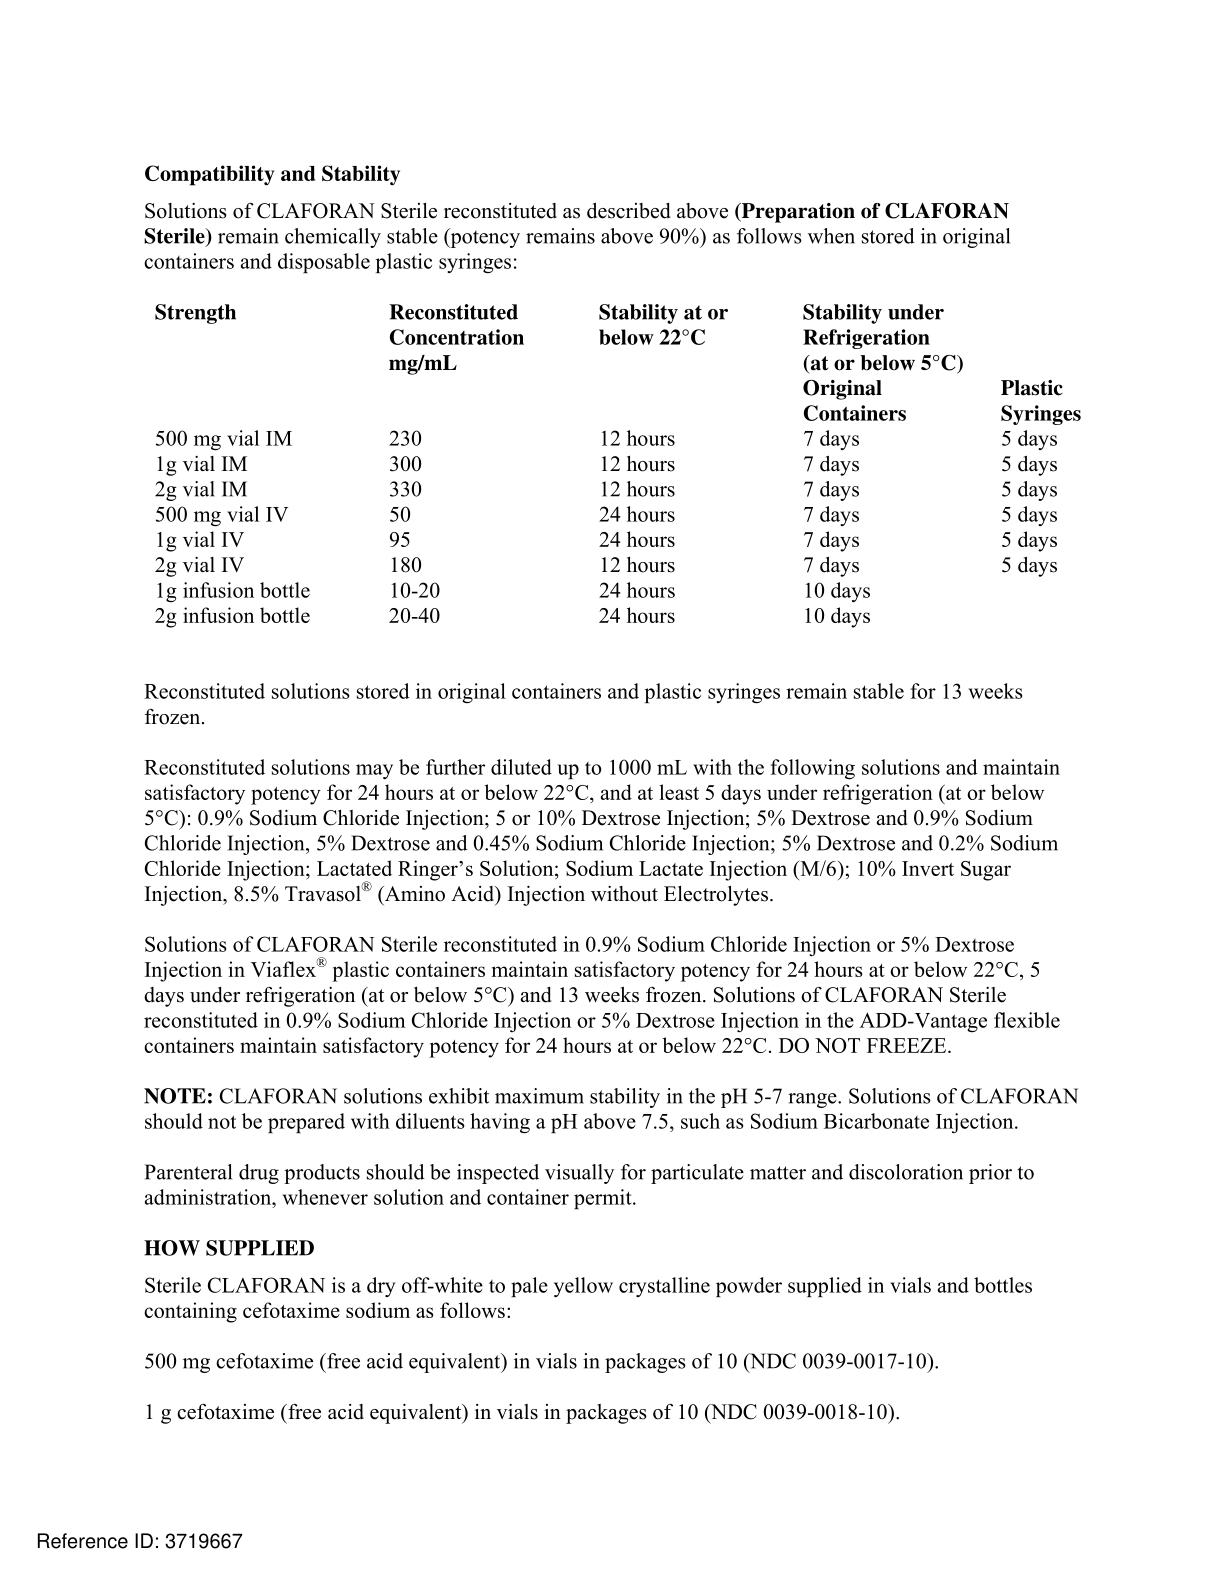nolines: (147, 300, 1083, 631)
